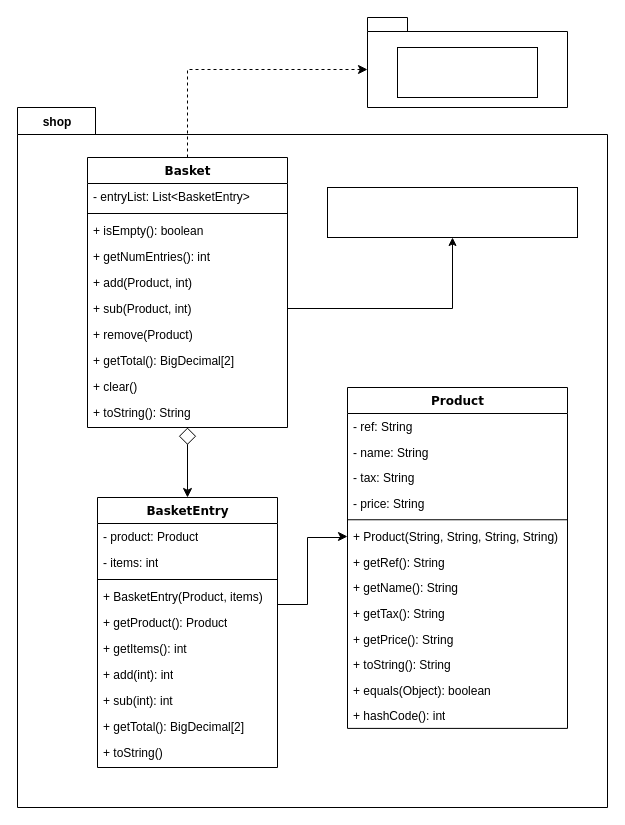
Some shapes in this 625 by 825 pixel diagram are drawn without their labels. Here are the shapes that lost their labels. From the top down, the centre of each, then its label:
point 467,72: DynArray
point 452,212: NoProductInBasketException
